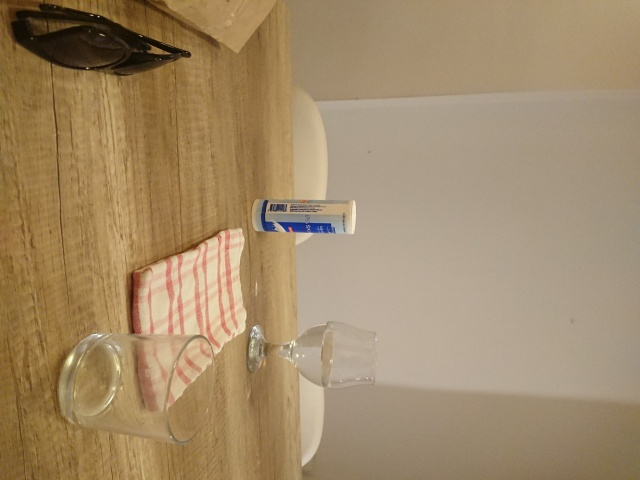Solana Pag Fine Sea Salt 250g: (249, 197, 358, 236)
